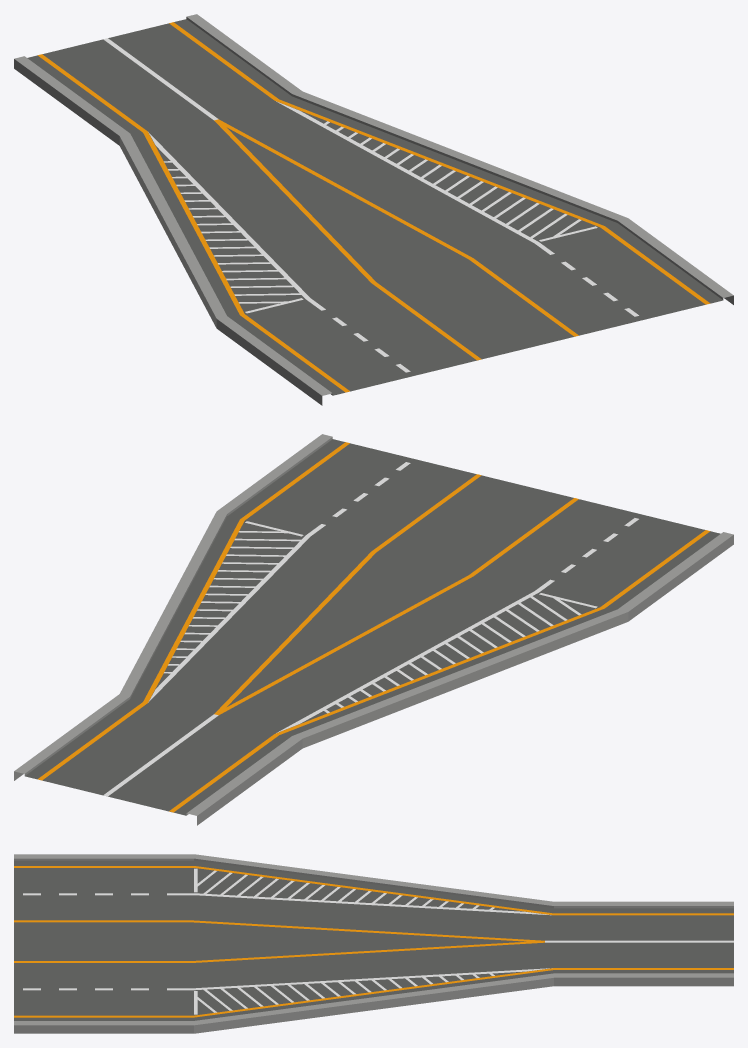
Rendered from Road_B_2L_1_3.fbx.
The picture shows the model from 3 angles, top to bottom: view 1: azimuth 30°, elevation 25°; view 2: azimuth 150°, elevation 25°; view 3: azimuth 270°, elevation 25°; orthographic projection. The views are drawn at different scales.
Parts seen in each view (by area): view 1: Road_B_2L_1_3; view 2: Road_B_2L_1_3; view 3: Road_B_2L_1_3.
Part boxes in pixels (left/top/right/bottom): Road_B_2L_1_3: left=14, top=14, right=733, bottom=405; Road_B_2L_1_3: left=14, top=434, right=733, bottom=825; Road_B_2L_1_3: left=14, top=854, right=733, bottom=1033.
Size of the model in its own units: 1800 by 41.48 by 3200.
